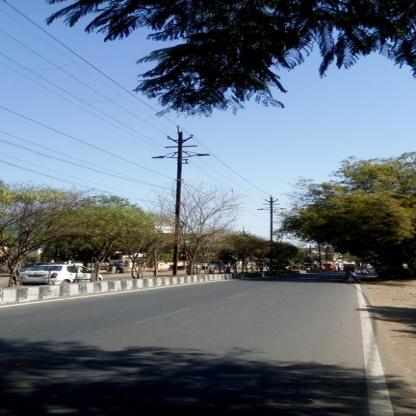Electrical Pole: (137, 122, 215, 274)
